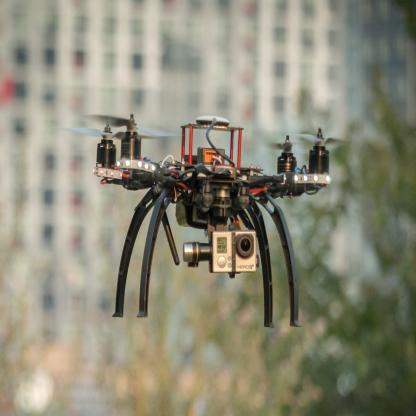drone: (64, 98, 352, 240)
